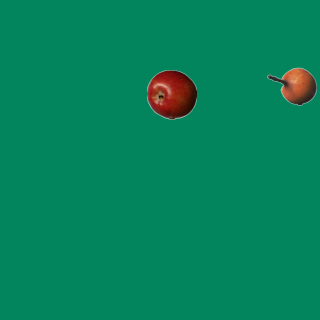Apple Braeburn: (146, 69, 196, 119)
Granadilla: (266, 61, 316, 111)
